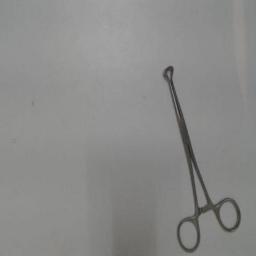Babcock Tissue Forceps: (160, 62, 244, 254)
